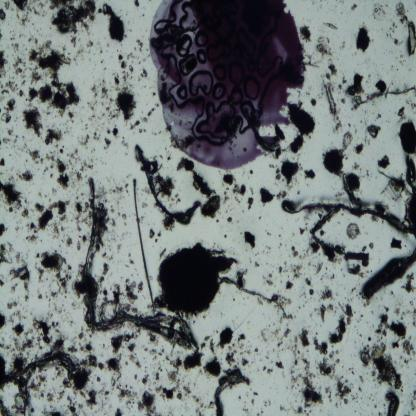Background material: (154, 241, 238, 316), (360, 306, 416, 390), (130, 171, 156, 309), (356, 251, 416, 305), (297, 327, 333, 410), (22, 198, 70, 245), (306, 208, 346, 262), (351, 82, 416, 110), (56, 147, 96, 190), (49, 0, 95, 35), (384, 155, 416, 204), (319, 300, 354, 344), (287, 102, 317, 152), (29, 39, 72, 73), (4, 0, 49, 32), (96, 281, 131, 322), (153, 365, 192, 400), (391, 0, 415, 56), (106, 331, 143, 367), (323, 134, 354, 175), (12, 319, 48, 353), (334, 367, 364, 407), (50, 74, 81, 112), (102, 107, 128, 150), (341, 240, 375, 272), (151, 174, 184, 206), (102, 3, 127, 45), (341, 167, 367, 206), (226, 330, 254, 366), (394, 113, 416, 157), (72, 272, 98, 308), (114, 85, 138, 122), (270, 158, 304, 183), (13, 372, 32, 416), (351, 17, 372, 55), (97, 205, 114, 250), (21, 102, 42, 138), (9, 267, 30, 301), (0, 180, 23, 210), (192, 170, 217, 197), (118, 48, 136, 85), (7, 352, 29, 382), (138, 389, 162, 416), (271, 294, 294, 322), (348, 65, 365, 102), (49, 272, 71, 300), (41, 252, 68, 274), (182, 345, 203, 372), (369, 0, 392, 24), (118, 383, 138, 410), (200, 194, 221, 219), (324, 84, 338, 121), (202, 355, 223, 379), (0, 98, 17, 125), (28, 375, 47, 399), (13, 54, 29, 82), (216, 325, 233, 351), (343, 222, 364, 242), (385, 389, 400, 416), (318, 33, 334, 58), (48, 333, 66, 354), (126, 276, 138, 306), (296, 18, 312, 40), (107, 360, 123, 382), (0, 241, 14, 266), (149, 155, 166, 175), (42, 128, 62, 145), (176, 156, 197, 172), (256, 186, 274, 204), (365, 122, 382, 141), (79, 355, 99, 370), (235, 268, 250, 288), (374, 73, 387, 96), (16, 168, 34, 184), (6, 307, 24, 323), (28, 64, 41, 86), (323, 61, 338, 80), (0, 397, 15, 416), (40, 404, 63, 416), (318, 285, 334, 302), (73, 198, 82, 228), (38, 85, 53, 103), (84, 390, 98, 409), (404, 272, 416, 294), (0, 354, 8, 387), (289, 366, 304, 383), (244, 230, 256, 251), (288, 264, 304, 279), (304, 53, 319, 69), (0, 47, 8, 77), (34, 262, 45, 283), (355, 139, 367, 158), (83, 200, 91, 228), (98, 184, 110, 202), (99, 260, 109, 281), (376, 155, 391, 169), (284, 343, 298, 358), (322, 18, 338, 31), (27, 148, 40, 164), (385, 22, 397, 39), (233, 182, 247, 196), (66, 402, 80, 416), (77, 132, 91, 146), (25, 87, 39, 101), (81, 20, 92, 37), (5, 78, 18, 92), (72, 48, 85, 62), (54, 364, 66, 379), (6, 297, 21, 309), (138, 196, 150, 211), (67, 338, 78, 354), (78, 342, 94, 353), (396, 103, 408, 117), (112, 182, 124, 196), (140, 372, 150, 388), (392, 237, 404, 250), (276, 188, 288, 201), (410, 386, 416, 412), (258, 329, 268, 344), (316, 82, 325, 98), (195, 403, 206, 416), (223, 174, 236, 185), (284, 278, 295, 291), (290, 404, 304, 414), (96, 400, 106, 414), (0, 310, 7, 329), (60, 378, 72, 389), (173, 359, 183, 372), (375, 202, 388, 212), (210, 338, 218, 354), (135, 38, 144, 52), (111, 71, 120, 85), (245, 196, 254, 210), (315, 262, 324, 276), (77, 326, 86, 340), (306, 171, 317, 182), (129, 119, 140, 130), (44, 152, 55, 163), (158, 244, 166, 259), (28, 33, 38, 45), (280, 403, 290, 415), (100, 87, 109, 100), (56, 389, 65, 402), (14, 251, 23, 264), (11, 41, 20, 54), (53, 305, 64, 315), (88, 100, 98, 110), (54, 108, 64, 118), (350, 1, 359, 12), (90, 82, 97, 96), (71, 35, 79, 47), (334, 121, 342, 133), (65, 236, 73, 248), (369, 214, 381, 222), (223, 190, 230, 203), (0, 223, 7, 236), (51, 320, 60, 330), (304, 278, 313, 288), (88, 112, 97, 122), (291, 246, 299, 257), (276, 360, 284, 371), (174, 193, 181, 205), (141, 68, 148, 80), (365, 72, 372, 84), (68, 301, 77, 310), (363, 171, 372, 180), (6, 344, 15, 353), (338, 79, 346, 89), (334, 192, 344, 200), (192, 396, 202, 404), (22, 209, 30, 219), (104, 252, 114, 260), (99, 385, 107, 395), (351, 164, 361, 172), (338, 41, 346, 51), (0, 7, 6, 20), (138, 280, 145, 291), (275, 336, 282, 347), (125, 181, 130, 196), (39, 366, 48, 374), (271, 328, 280, 336), (242, 407, 251, 415), (79, 390, 87, 399), (86, 39, 95, 47), (93, 132, 102, 140), (11, 136, 18, 146), (3, 136, 10, 146), (47, 394, 54, 404), (128, 253, 134, 264), (208, 401, 216, 409), (18, 143, 26, 151), (298, 252, 306, 260), (66, 264, 74, 272), (142, 54, 150, 62), (1, 88, 9, 96), (8, 174, 16, 182), (68, 110, 75, 119), (233, 195, 240, 204), (314, 307, 321, 316), (147, 229, 154, 238), (364, 136, 370, 146), (37, 288, 42, 300), (0, 156, 5, 168), (300, 226, 306, 236), (111, 215, 116, 227), (116, 242, 121, 254), (33, 354, 40, 362), (310, 99, 318, 106), (141, 116, 148, 124), (304, 409, 312, 416), (283, 329, 290, 337), (167, 408, 174, 416), (308, 289, 316, 296), (266, 279, 274, 286), (116, 408, 123, 416), (45, 104, 53, 111), (158, 348, 165, 356), (147, 108, 154, 116), (99, 78, 106, 86), (6, 206, 13, 214), (358, 271, 366, 278), (370, 100, 378, 107), (318, 229, 326, 236), (121, 212, 127, 221), (320, 273, 326, 282), (293, 334, 299, 343), (375, 114, 381, 123), (98, 362, 104, 371), (148, 349, 158, 354), (110, 97, 114, 109), (175, 350, 183, 356), (72, 390, 78, 398), (264, 244, 272, 250), (0, 279, 6, 287), (82, 236, 88, 244), (200, 342, 206, 350), (346, 296, 354, 302), (76, 402, 84, 408), (252, 390, 260, 396), (389, 290, 395, 298), (334, 400, 339, 409), (249, 188, 254, 197), (96, 40, 101, 49), (266, 273, 273, 279), (18, 89, 24, 96), (304, 214, 310, 221), (227, 216, 233, 223), (368, 243, 374, 250), (264, 354, 271, 360), (350, 287, 357, 293), (139, 83, 146, 89), (134, 373, 140, 380), (67, 395, 72, 403), (43, 166, 48, 174), (341, 97, 346, 105), (111, 378, 116, 386), (65, 118, 70, 126), (304, 90, 312, 95), (38, 191, 43, 199), (354, 318, 362, 323), (394, 38, 399, 46), (282, 268, 288, 274), (254, 262, 260, 268), (30, 408, 36, 414), (18, 32, 24, 38), (21, 80, 27, 86), (152, 130, 158, 136), (251, 397, 255, 406), (267, 368, 273, 374), (152, 356, 158, 362), (84, 123, 89, 130), (204, 336, 211, 341), (165, 354, 170, 361), (222, 232, 227, 239), (167, 155, 172, 162), (136, 327, 141, 334), (318, 213, 323, 220), (14, 225, 19, 232), (134, 0, 139, 7), (0, 29, 3, 40), (297, 90, 301, 98), (294, 358, 298, 366), (77, 224, 81, 232), (76, 242, 80, 250), (303, 291, 307, 299), (279, 316, 283, 324), (278, 267, 282, 275), (276, 349, 280, 357), (154, 236, 158, 244), (267, 398, 271, 406), (198, 368, 202, 376), (54, 143, 59, 149), (292, 384, 297, 390), (362, 245, 367, 251), (237, 396, 242, 402), (25, 198, 30, 204), (0, 343, 6, 348), (62, 45, 67, 51), (294, 217, 300, 222), (377, 411, 383, 416), (8, 129, 13, 135), (104, 390, 109, 396), (156, 232, 162, 237), (249, 169, 254, 175), (324, 266, 329, 272), (66, 127, 70, 134), (50, 162, 54, 169), (330, 274, 334, 281), (278, 242, 282, 249), (108, 404, 112, 411), (53, 187, 56, 196), (55, 328, 60, 333), (58, 149, 63, 154), (70, 320, 74, 326), (382, 402, 386, 408), (75, 194, 79, 200), (36, 253, 40, 259), (282, 370, 285, 378), (254, 348, 260, 352), (255, 252, 261, 256), (305, 223, 308, 231), (262, 274, 266, 280), (96, 376, 100, 382), (278, 232, 282, 238), (334, 349, 338, 355), (102, 112, 106, 118), (102, 66, 106, 72), (256, 366, 260, 372), (267, 232, 272, 236), (380, 220, 384, 225), (152, 92, 156, 97), (348, 122, 352, 127), (44, 294, 48, 299), (311, 0, 315, 5), (100, 59, 104, 64), (336, 359, 340, 364), (98, 8, 102, 13), (339, 0, 344, 4), (144, 347, 148, 352), (308, 261, 312, 266), (346, 156, 350, 161), (263, 366, 266, 372), (139, 128, 142, 134), (9, 37, 15, 40), (264, 400, 267, 406), (107, 42, 110, 48), (292, 232, 296, 236), (258, 215, 262, 219), (156, 103, 160, 107), (47, 298, 51, 302), (100, 50, 104, 54), (129, 28, 133, 32), (272, 348, 276, 352), (294, 399, 298, 403), (80, 193, 84, 197), (259, 358, 263, 362), (366, 270, 370, 274), (216, 218, 219, 223), (193, 382, 196, 387), (374, 404, 377, 409), (312, 263, 317, 266), (169, 360, 172, 365), (50, 173, 53, 178), (318, 252, 321, 256), (240, 230, 242, 236), (124, 34, 127, 38), (107, 108, 110, 112), (158, 130, 161, 134), (25, 47, 28, 51), (58, 244, 61, 248), (260, 411, 264, 414), (46, 112, 50, 115), (216, 329, 219, 333), (286, 322, 289, 326), (138, 76, 140, 82), (226, 186, 229, 190), (0, 139, 2, 145), (287, 274, 290, 278), (294, 315, 297, 319), (284, 261, 287, 265), (298, 189, 300, 195), (70, 119, 74, 122), (340, 268, 343, 272), (142, 13, 145, 17), (125, 152, 128, 156), (343, 274, 346, 278), (39, 33, 43, 36), (257, 413, 261, 416), (320, 4, 322, 10), (297, 384, 300, 388), (79, 235, 82, 239), (41, 158, 43, 164), (133, 46, 136, 50), (310, 314, 313, 318), (22, 136, 25, 140), (74, 399, 76, 405), (355, 129, 357, 134), (277, 310, 279, 315), (263, 249, 265, 254), (2, 337, 4, 342), (226, 209, 228, 214), (1, 84, 3, 89), (265, 262, 268, 265), (299, 294, 302, 297), (372, 399, 375, 402), (9, 30, 12, 33), (298, 306, 301, 309), (303, 272, 306, 275), (22, 43, 25, 46), (268, 324, 271, 327), (303, 304, 305, 308), (274, 284, 276, 288), (280, 279, 282, 283), (275, 266, 277, 270), (144, 128, 146, 132), (146, 48, 148, 52), (102, 343, 104, 347), (273, 322, 275, 326), (360, 334, 362, 337), (26, 159, 28, 162), (310, 297, 312, 300), (53, 378, 56, 380), (369, 397, 371, 400), (267, 251, 269, 254), (278, 290, 280, 293), (250, 388, 252, 391), (64, 131, 66, 134), (354, 410, 356, 413), (272, 360, 274, 363), (391, 66, 394, 68), (320, 0, 322, 3), (0, 108, 1, 113), (265, 230, 267, 232), (282, 348, 283, 352), (251, 362, 253, 364), (100, 182, 102, 184), (340, 12, 342, 14), (272, 270, 274, 272), (305, 301, 307, 303), (119, 214, 121, 216), (117, 50, 119, 52), (281, 227, 283, 229), (14, 33, 16, 35), (105, 163, 107, 165), (286, 386, 288, 388), (50, 27, 52, 29), (397, 69, 399, 71), (146, 366, 148, 368), (354, 341, 356, 343), (335, 5, 337, 7), (371, 270, 373, 272), (335, 0, 338, 1), (354, 311, 355, 313), (63, 146, 64, 148)
Cellulose filter fibre: (83, 176, 189, 338), (284, 201, 415, 235), (12, 347, 90, 389), (148, 309, 197, 347), (213, 369, 250, 416), (216, 275, 271, 303)
Cotton: (137, 144, 200, 225)
Pen: (149, 0, 311, 171)
